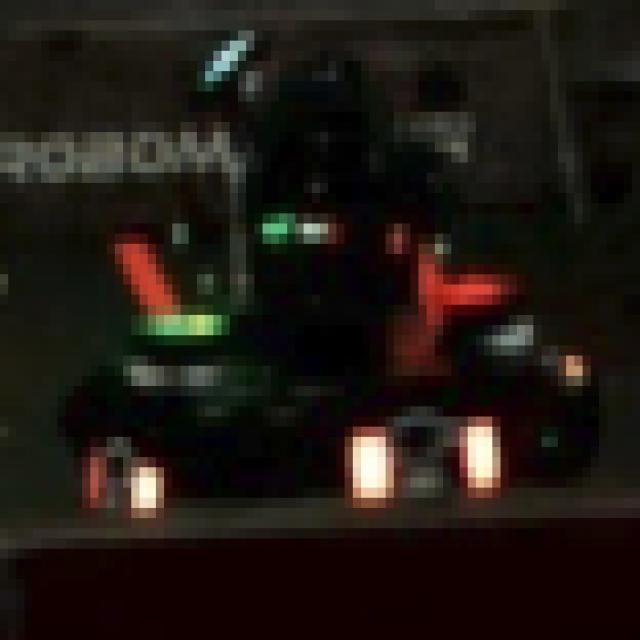Rs: (336, 406, 509, 498), (82, 447, 148, 518)
